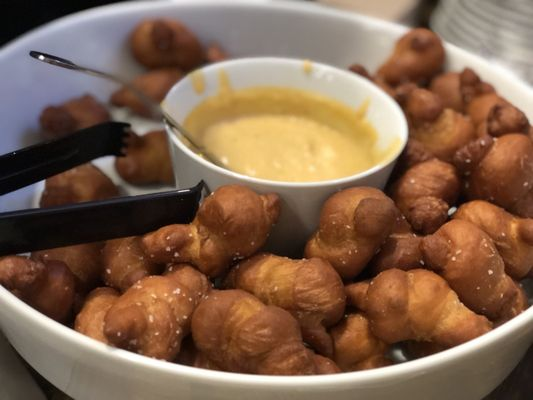salad: (29, 50, 129, 85)
sandwich: (0, 120, 132, 198)
sushi: (160, 56, 410, 257)
